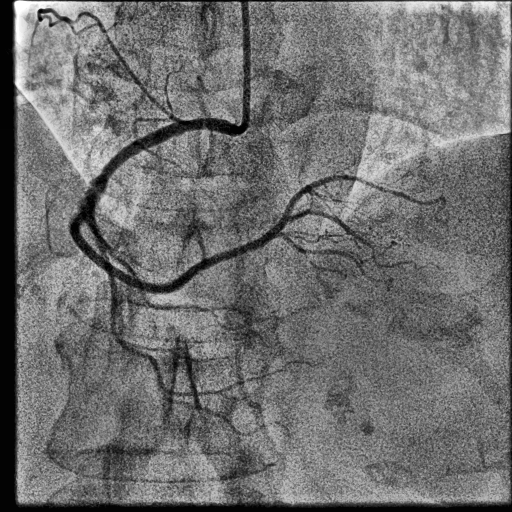pborca: (277, 175, 446, 231)
pda: (277, 233, 363, 271)
rca: (70, 118, 280, 294)
